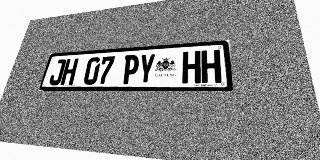0: (83, 57, 101, 85)
7: (96, 56, 115, 85)
H: (201, 49, 222, 83), (182, 51, 201, 83), (60, 58, 79, 85)
J: (48, 59, 67, 85)
P: (121, 54, 140, 84)
Y: (137, 53, 156, 84)
